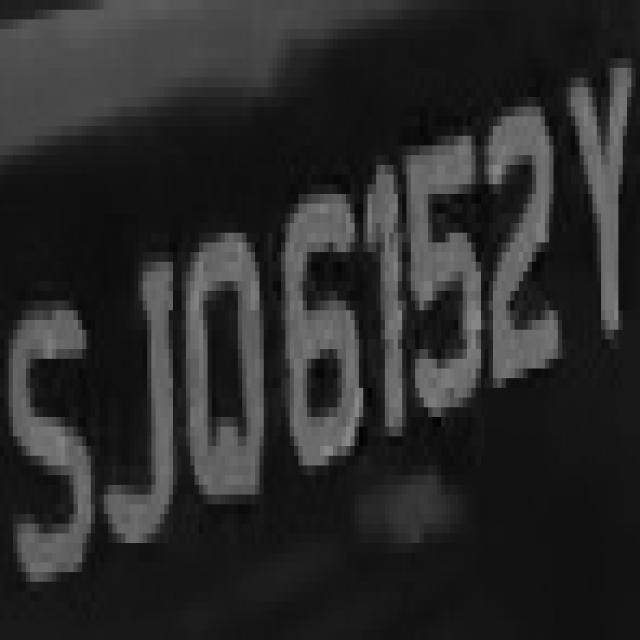1: (354, 136, 420, 485)
2: (476, 68, 562, 417)
5: (406, 97, 480, 446)
6: (277, 165, 363, 485)
J: (95, 233, 186, 582)
Q: (173, 204, 277, 533)
S: (5, 242, 100, 620)
Y: (562, 29, 627, 369)
